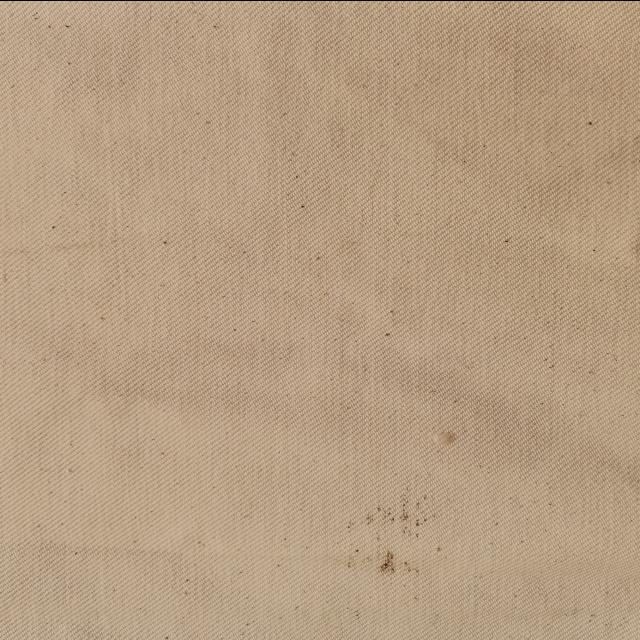taaaches: (352, 498, 446, 576)
